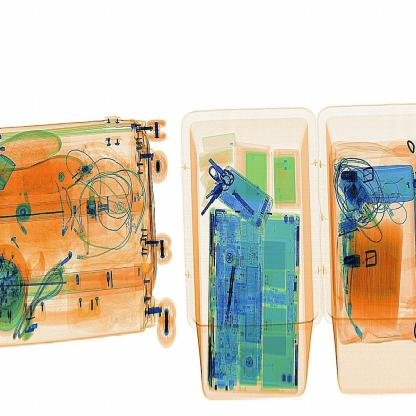gun: (209, 242, 247, 335)
